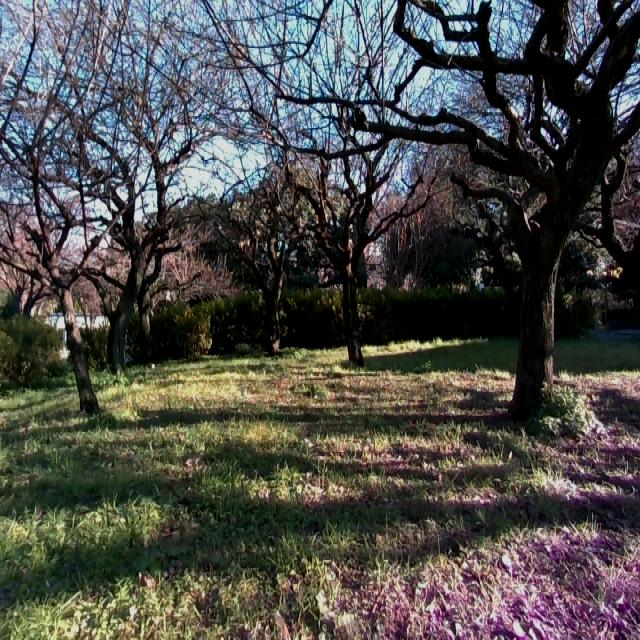bush: (117, 259, 640, 356), (0, 296, 73, 399)
tree: (358, 0, 640, 422), (4, 5, 120, 423), (277, 12, 404, 364), (73, 0, 181, 376), (228, 103, 320, 359)
